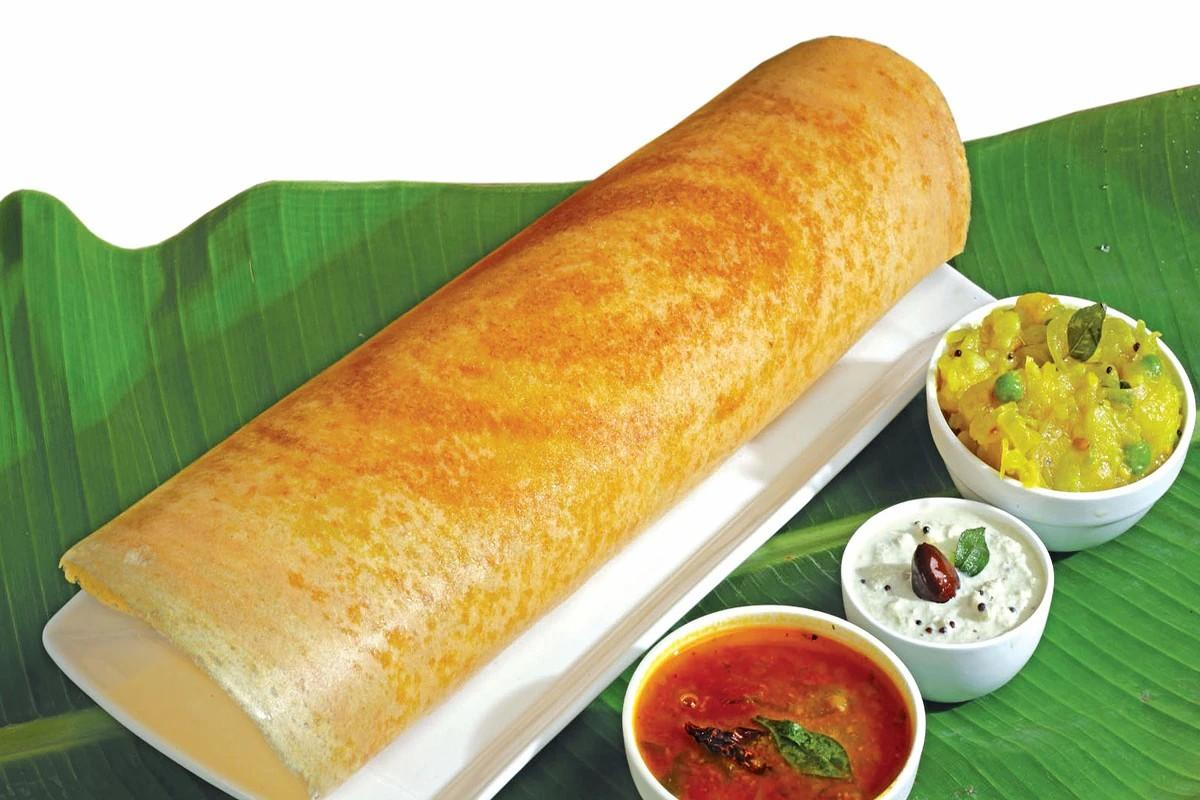CoconutChutney: (854, 507, 1038, 643)
Dosa: (61, 36, 970, 800)
